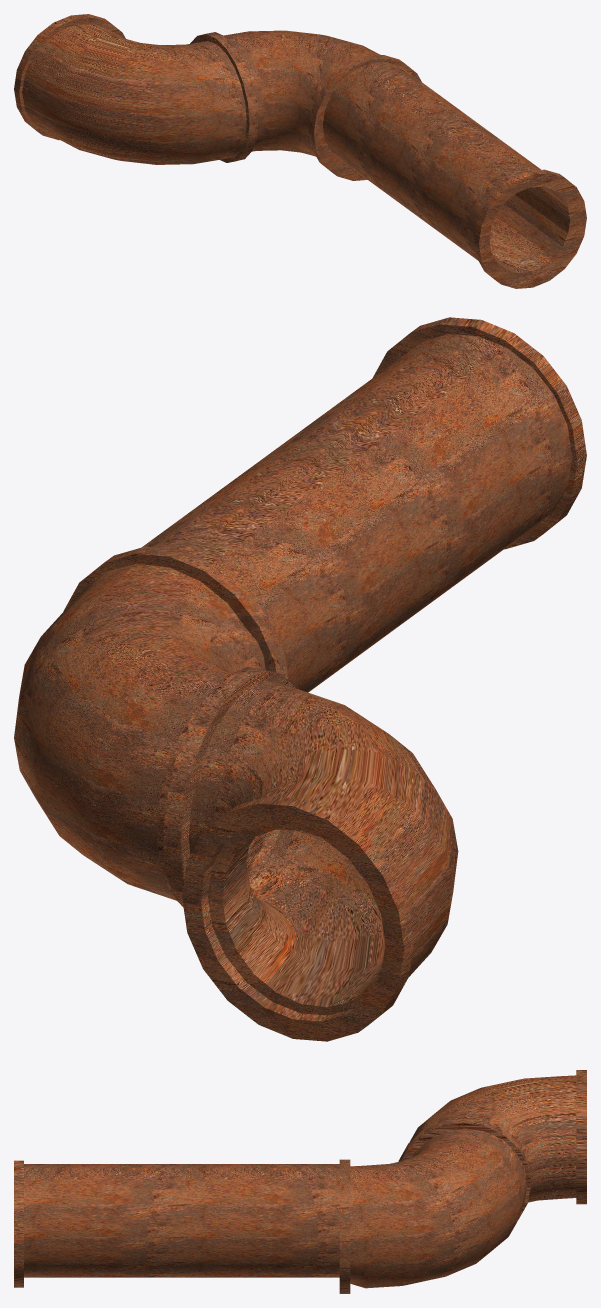
Rendered from pipe 4 c.fbx.
3 views of the same model, one above another, from view 1: azimuth 30°, elevation 25°; view 2: azimuth 150°, elevation 25°; view 3: azimuth 270°, elevation 25° (orthographic). The views are drawn at different scales.
Parts seen in each view (by area): view 1: pTorus44; view 2: pTorus44; view 3: pTorus44.
Boxes of the visible parts, <box> form: pTorus44: <box>14,14,586,288</box>; pTorus44: <box>14,317,586,1041</box>; pTorus44: <box>14,1070,586,1293</box>.
Bounding box in the file's own units: 4755 × 1865 × 7838.
